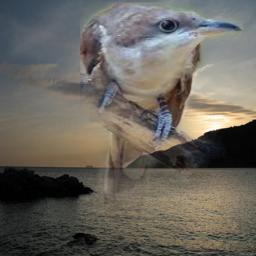Cuckoo: (80, 2, 243, 225)
